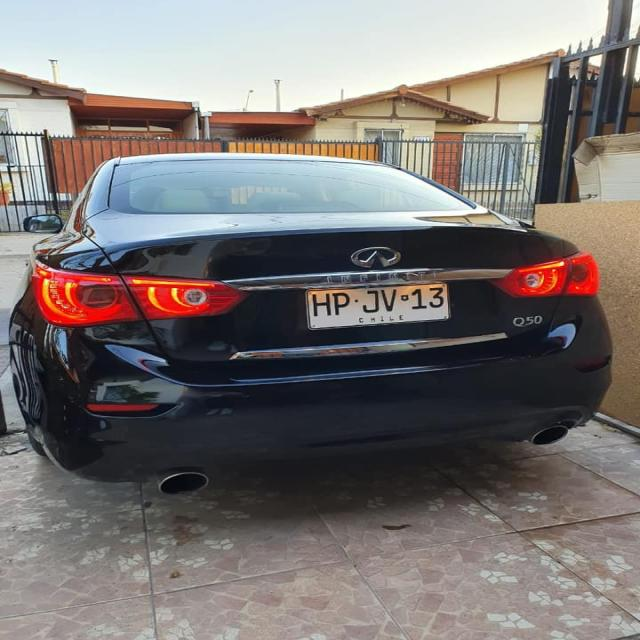patente: (303, 281, 452, 330)
